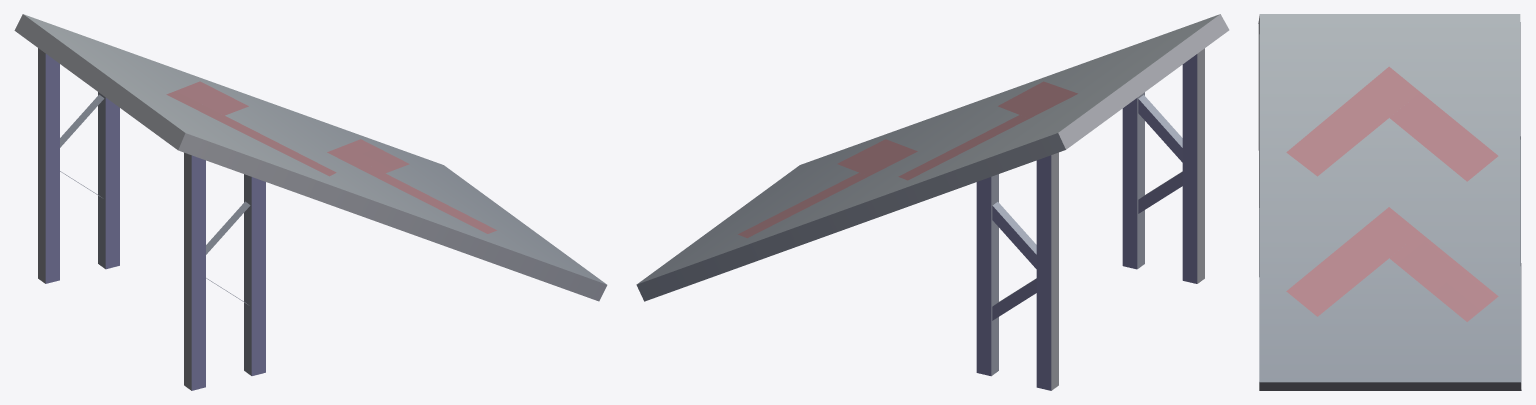
File: Prop_woodramp_01.glb
3 renders of one model, left to right at view 1: azimuth 30°, elevation 25°; view 2: azimuth 150°, elevation 25°; view 3: azimuth 270°, elevation 25°, orthographic. The views are drawn at different scales.
Visible parts, largest first — view 1: Prop_woodramp_01; view 2: Prop_woodramp_01; view 3: Prop_woodramp_01.
Boxes of the visible parts, bbox=[...] form: Prop_woodramp_01: bbox=[14, 14, 607, 390]; Prop_woodramp_01: bbox=[636, 14, 1229, 390]; Prop_woodramp_01: bbox=[1258, 14, 1521, 390].
Size of the model in its own units: 1 by 0.5995 by 0.663.
